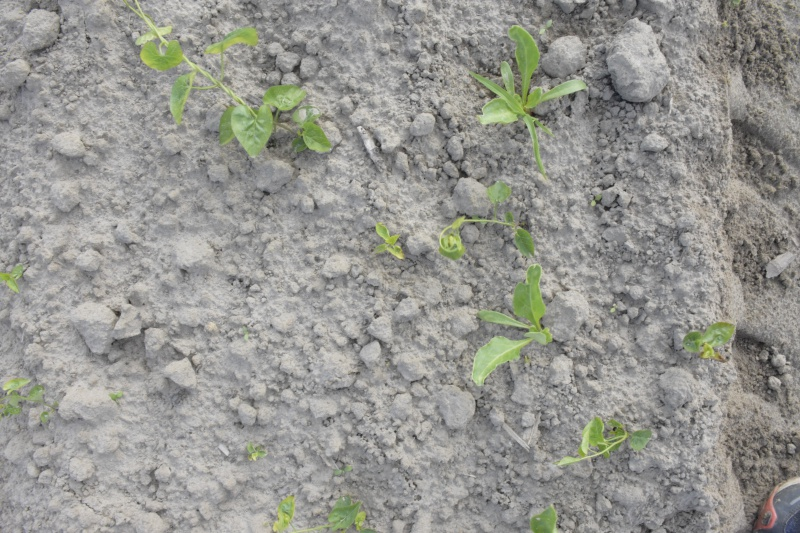field bindweed: (114, 2, 348, 160), (429, 176, 539, 256), (556, 417, 656, 471), (317, 490, 379, 533), (683, 319, 740, 362), (1, 373, 47, 423)
sugar beet: (460, 21, 590, 166), (468, 262, 554, 387)
